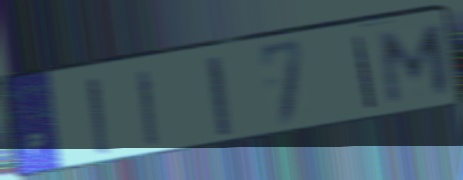7: (256, 36, 306, 135)
I: (203, 53, 235, 140), (84, 74, 115, 158), (134, 67, 161, 150), (351, 34, 379, 111)
M: (378, 21, 453, 108)
